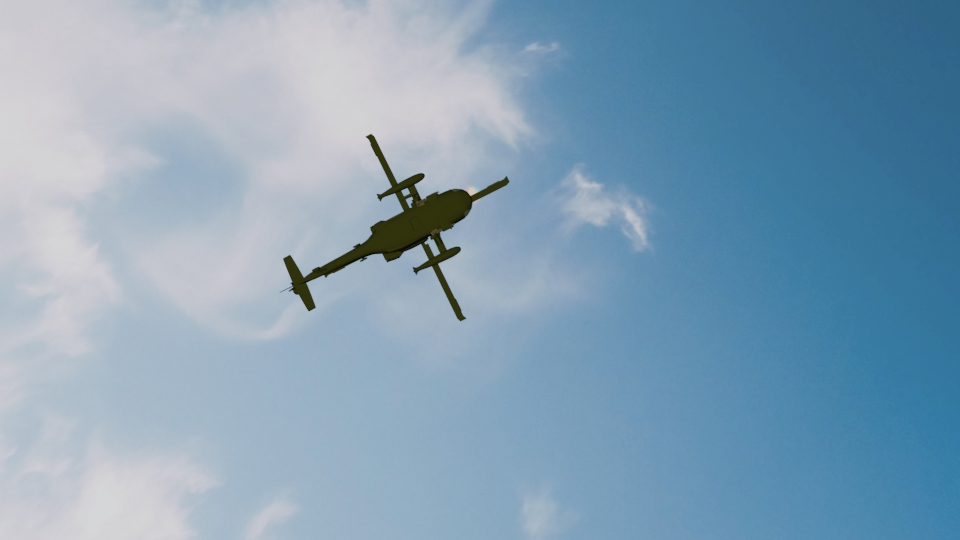heli: (283, 131, 511, 321)
